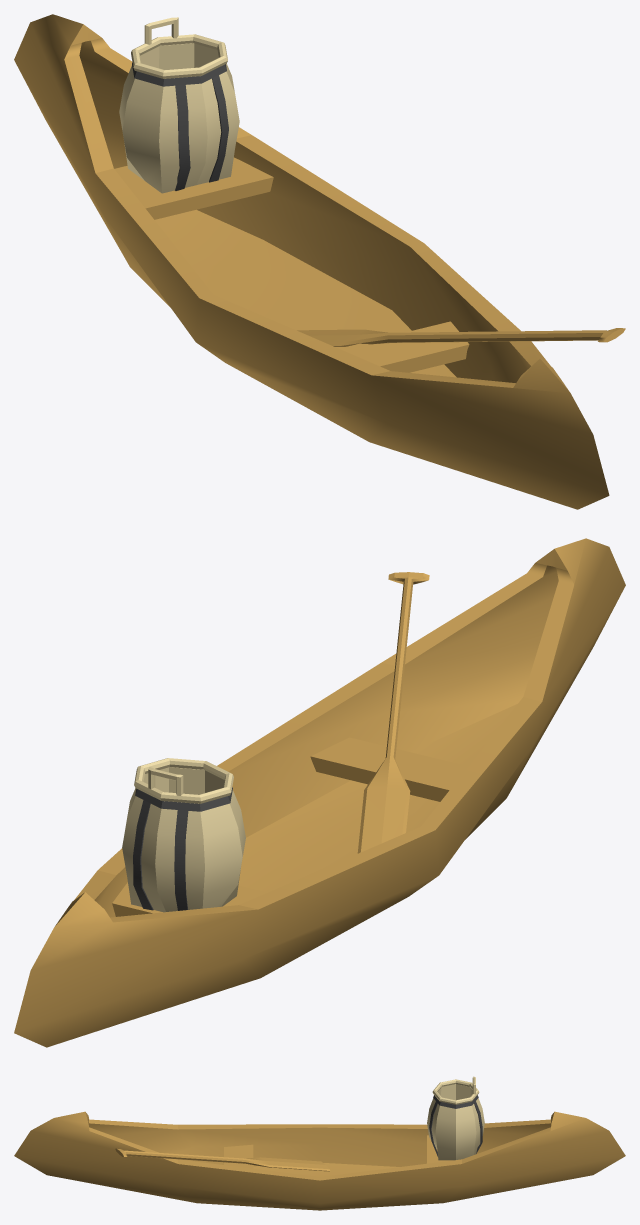
The model's file is canoe.gltf.
3 renders of one model, top to bottom at view 1: azimuth 30°, elevation 25°; view 2: azimuth 150°, elevation 25°; view 3: azimuth 270°, elevation 25°, orthographic. The views are drawn at different scales.
Visible parts, largest first — view 1: canoe.003; view 2: canoe.003; view 3: canoe.003.
Part boxes in pixels (<box>): canoe.003: <box>14,14,625,509</box>; canoe.003: <box>14,538,625,1047</box>; canoe.003: <box>14,1076,625,1210</box>.
Bounding box in the file's own units: 2.61 × 2.24 × 11.23.
